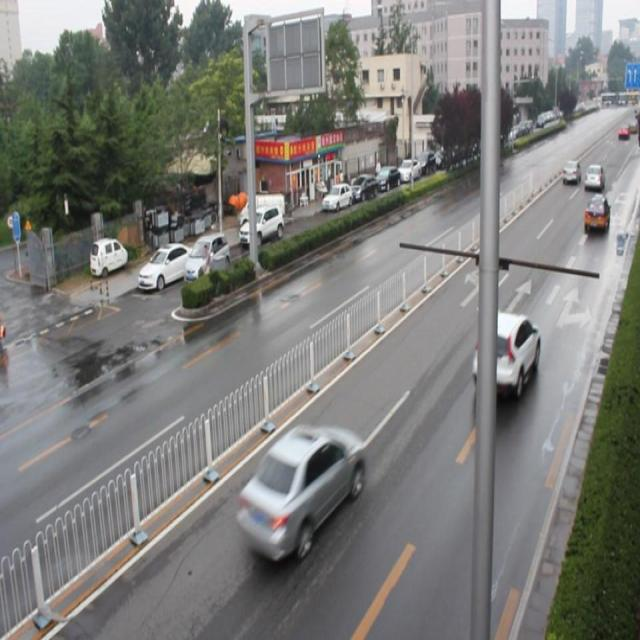car: (237, 423, 364, 561), (471, 311, 540, 399), (582, 193, 607, 234), (559, 161, 579, 186), (584, 164, 602, 188)
